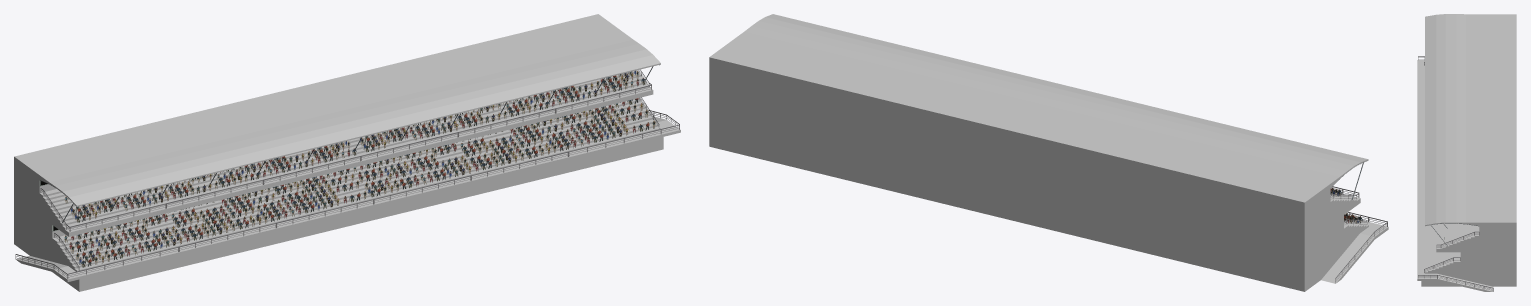
Rendered from GrandStand-08.fbx.
The picture shows the model from 3 angles, left to right: view 1: azimuth 30°, elevation 25°; view 2: azimuth 150°, elevation 25°; view 3: azimuth 270°, elevation 25°; orthographic projection. The views are drawn at different scales.
Visible parts, largest first — view 1: Stand-08, Audience; view 2: Stand-08; view 3: Stand-08.
Part boxes in pixels (left/top/right/bottom): Stand-08: left=14, top=14, right=680, bottom=291; Audience: left=64, top=70, right=655, bottom=267; Stand-08: left=709, top=14, right=1388, bottom=291; Stand-08: left=1417, top=14, right=1516, bottom=291.
Size of the model in its own units: 14378 by 1971 by 2757.
